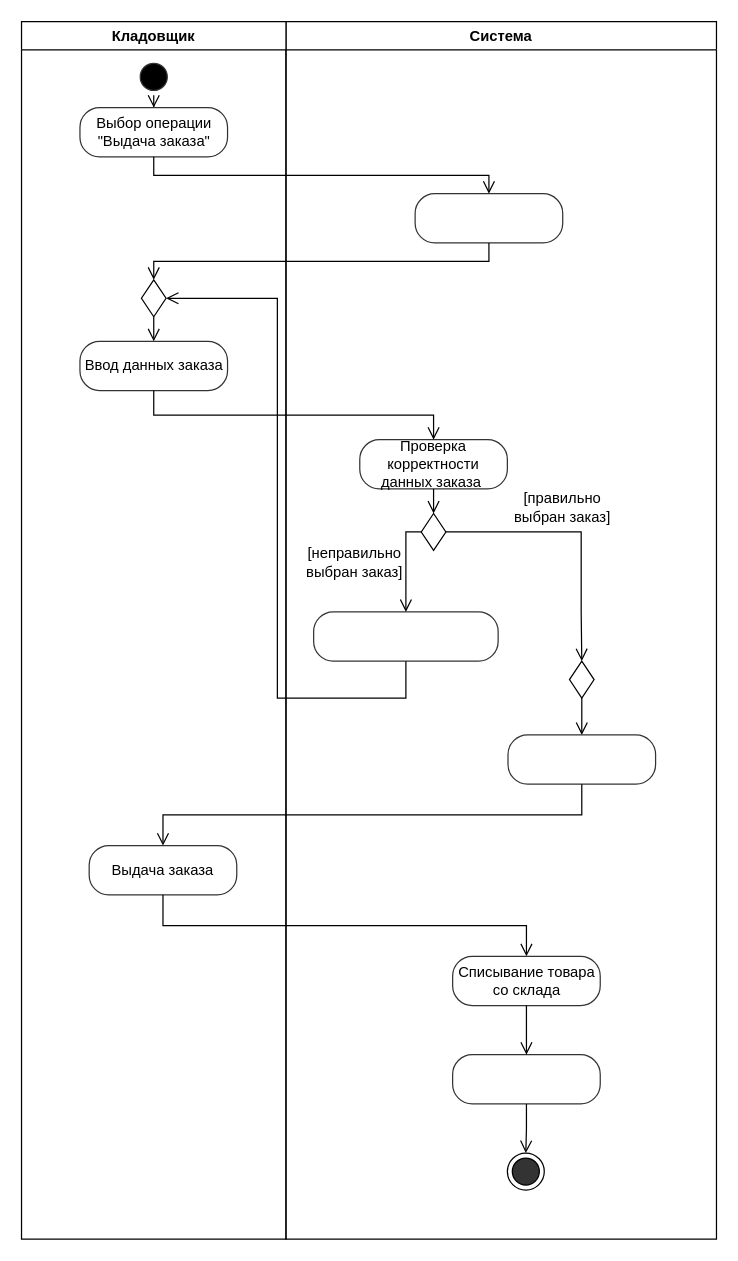
The diagram is 738 pixels wide and 1261 high, and some of its shapes have lost their labels. The shapes that lost their labels are listed below. From the top down, each one's centre as x and y in pixels, then its label:
[488,217]: Отображение формы заказа
[405,636]: Вывод сообщения об ошибке выдачи
[581,759]: Подтверждение готовности выдачи
[525,1078]: Изменение статуса заказа
